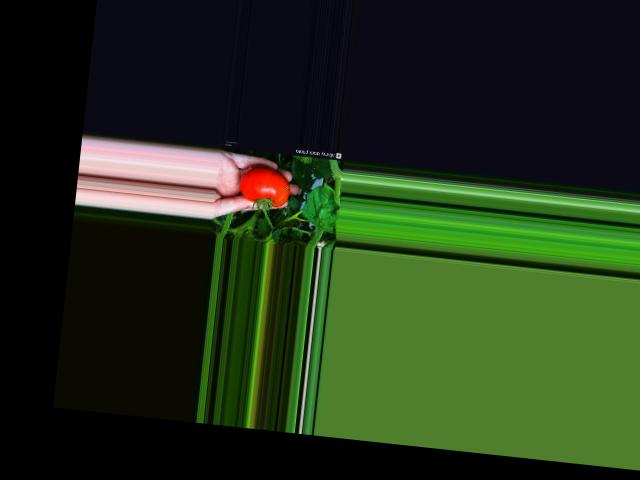tomato: (236, 163, 291, 207)
